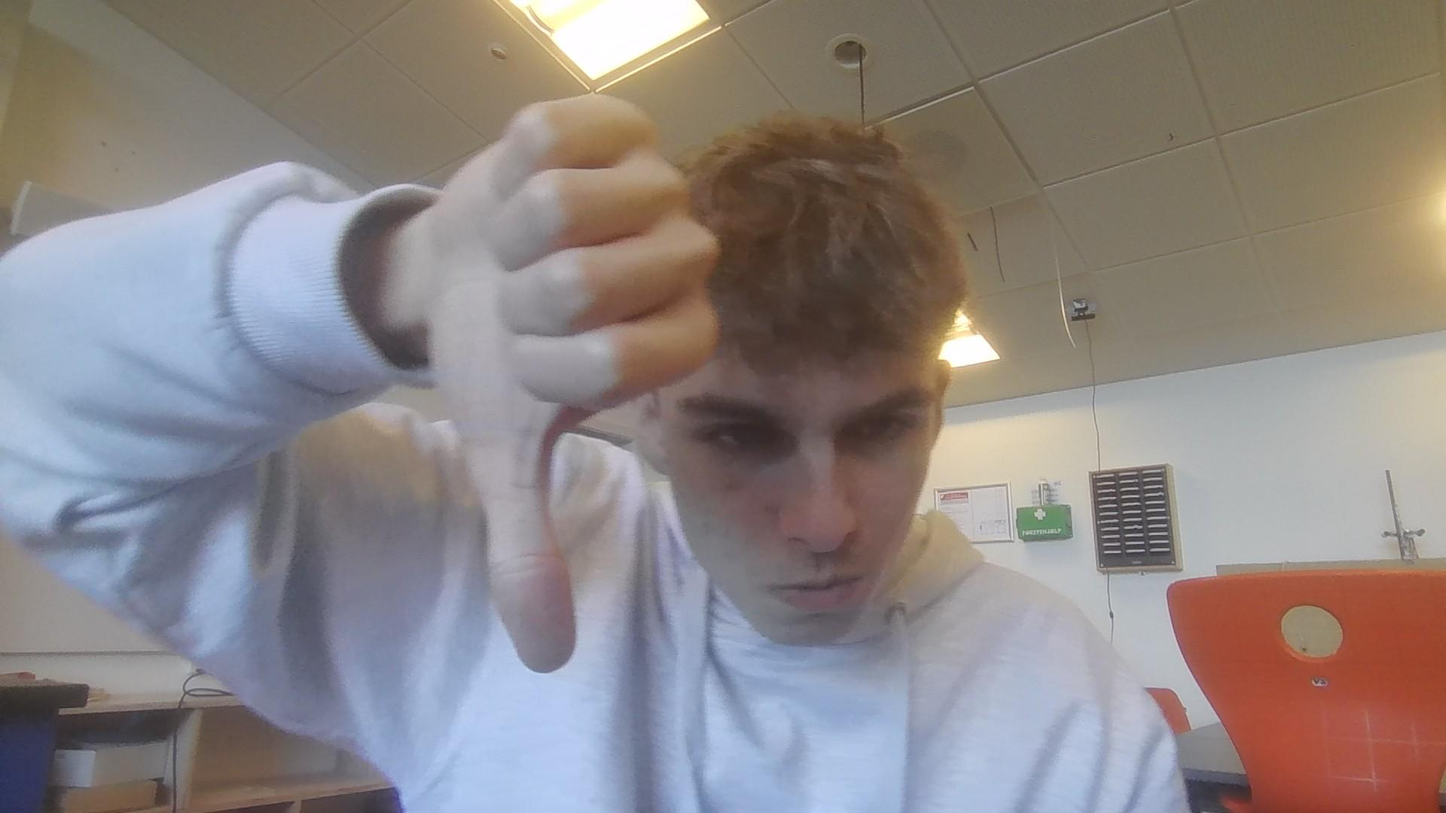thumbs down: (397, 85, 723, 694)
